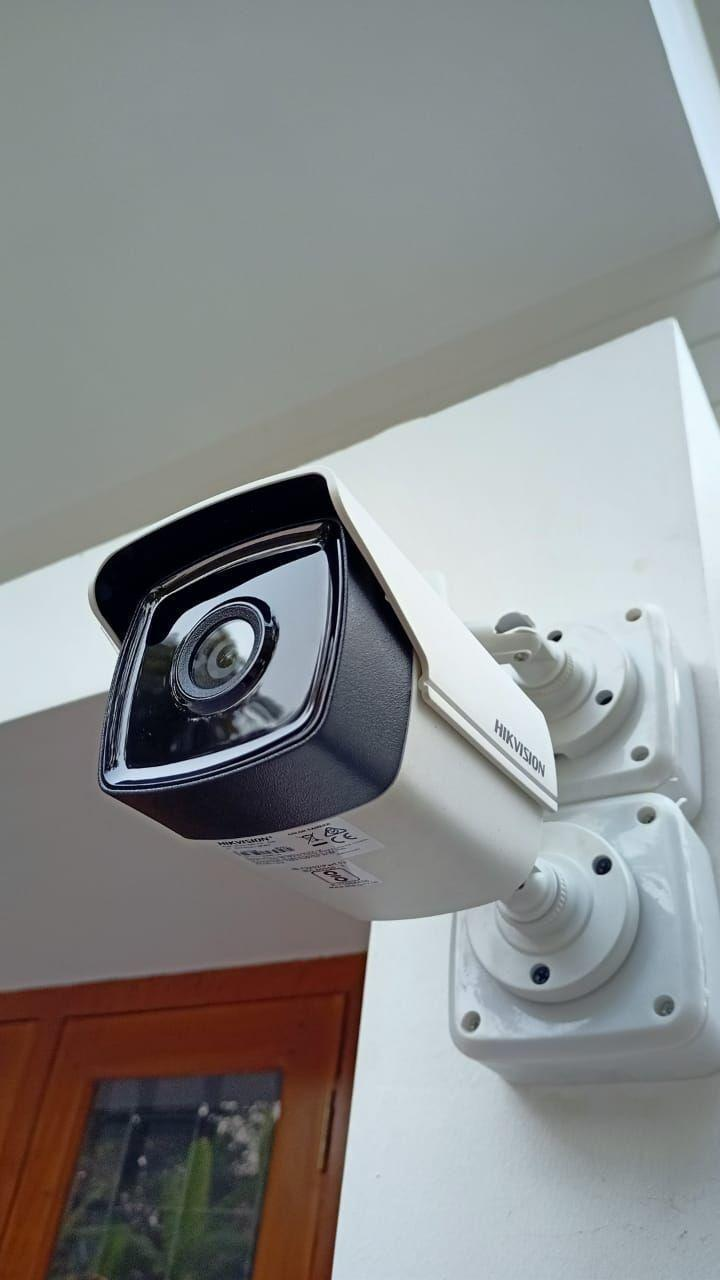CCTV: (87, 470, 699, 1025)
